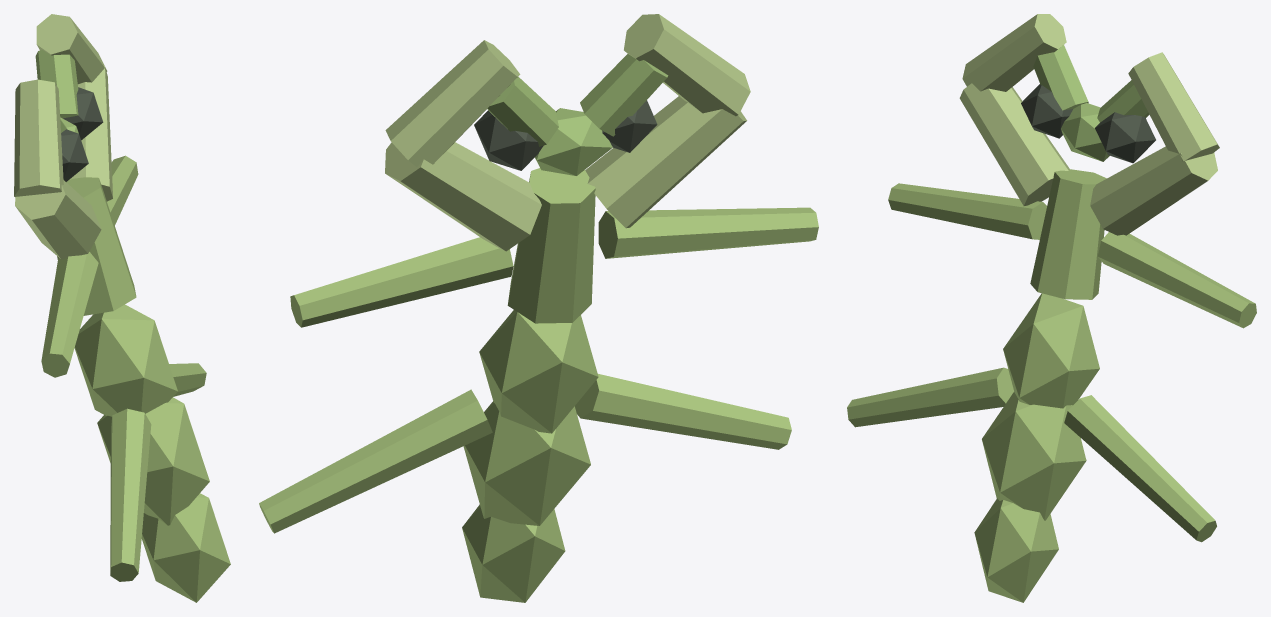
The picture shows the model from 3 angles, left to right: view 1: azimuth 30°, elevation 25°; view 2: azimuth 150°, elevation 25°; view 3: azimuth 270°, elevation 25°; orthographic projection. The views are drawn at different scales.
Parts seen in each view (by area): view 1: part0, part2, part1, part16, part12, part14, part11, part3, part10, part9, part7, part13 (+3 smaller); view 2: part3, part15, part0, part1, part11, part9, part13, part14, part16, part10, part2, part12 (+5 smaller); view 3: part1, part0, part3, part11, part15, part9, part2, part13, part16, part14, part10, part12 (+5 smaller).
Boxes of the visible parts, <box> form: part0: <box>74,304,177,416</box>; part2: <box>141,493,230,602</box>; part1: <box>97,397,209,525</box>; part16: <box>110,408,151,581</box>; part12: <box>14,79,63,196</box>; part14: <box>41,252,98,377</box>; part11: <box>15,180,101,259</box>; part3: <box>57,177,136,315</box>; part10: <box>36,14,107,84</box>; part9: <box>69,66,112,201</box>; part7: <box>35,50,78,118</box>; part13: <box>107,155,138,225</box>; part3: <box>507,168,595,323</box>; part15: <box>259,389,492,533</box>; part0: <box>479,310,598,433</box>; part1: <box>463,401,590,525</box>; part11: <box>585,96,746,228</box>; part9: <box>385,142,541,251</box>; part13: <box>290,237,513,327</box>; part14: <box>598,207,818,258</box>; part16: <box>574,374,791,449</box>; part10: <box>385,40,520,166</box>; part2: <box>462,504,565,602</box>; part12: <box>624,14,750,116</box>; part1: <box>982,392,1086,520</box>; part0: <box>1003,293,1099,408</box>; part3: <box>1030,169,1106,299</box>; part11: <box>959,83,1069,205</box>; part15: <box>1064,395,1216,542</box>; part9: <box>1090,146,1217,235</box>; part2: <box>974,498,1058,602</box>; part13: <box>1097,232,1256,328</box>; part16: <box>847,367,1013,427</box>; part14: <box>888,183,1046,239</box>; part10: <box>1128,52,1219,161</box>; part12: <box>962,14,1066,91</box>.
Bounding box in the file's own units: 7.77 × 12.51 × 9.02.
